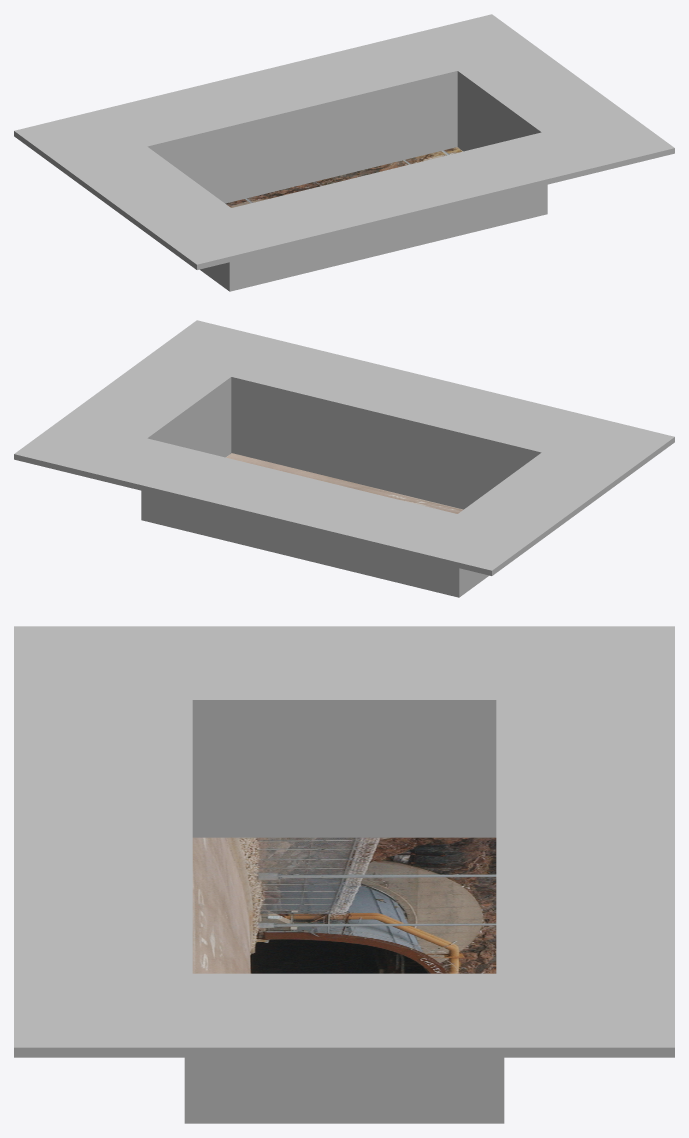
Rendered from whirlpool_bins_earth_2.dae.
3 views of the same model, one above another, from view 1: azimuth 30°, elevation 25°; view 2: azimuth 150°, elevation 25°; view 3: azimuth 270°, elevation 25° (orthographic). The views are drawn at different scales.
Visible parts, largest first — view 1: Bin Earth 2; view 2: Bin Earth 2; view 3: Bin Earth 2.
Boxes of the visible parts, x1,y1,x2,y2 form: Bin Earth 2: (14, 14, 674, 291); Bin Earth 2: (14, 320, 674, 597); Bin Earth 2: (14, 626, 674, 1123).
Bounding box in the file's own units: 0.9146 × 0.6063 × 0.1484.
Materials: 2 (1 with a texture image).
